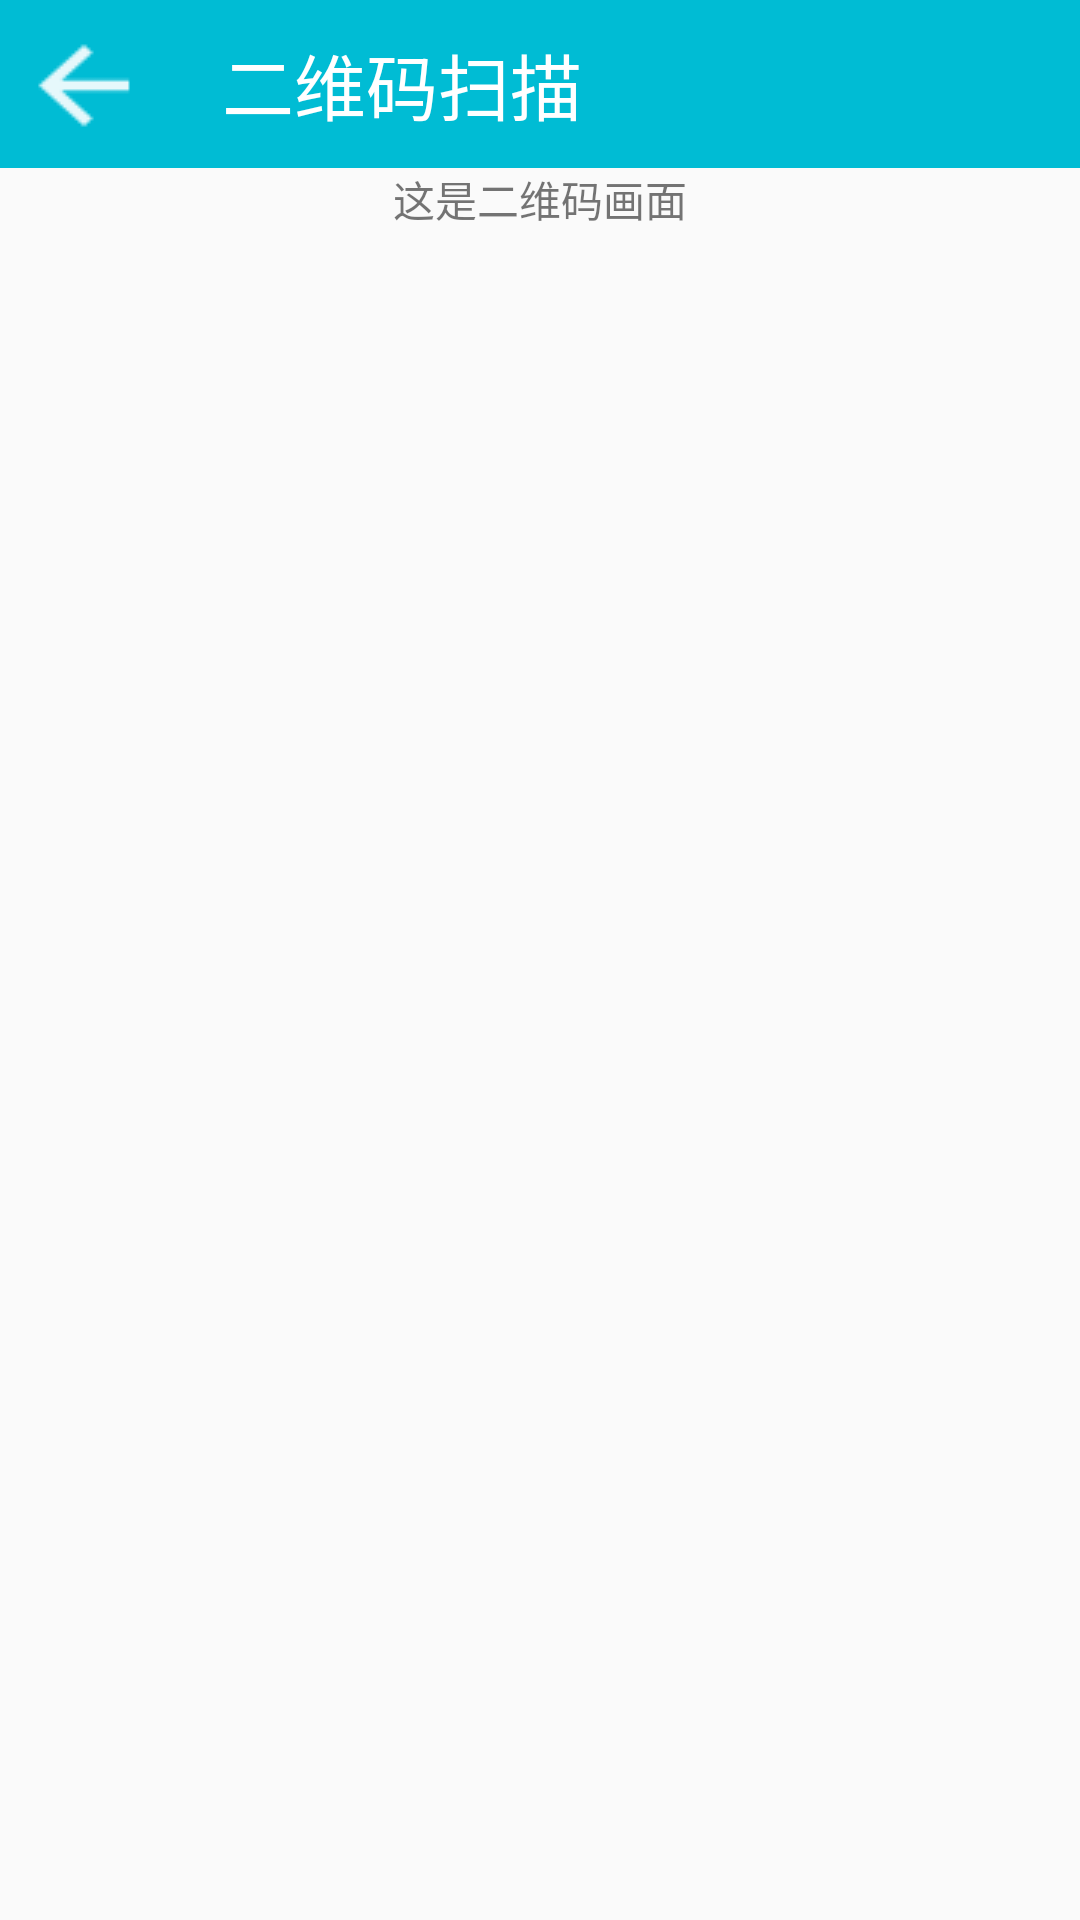

Icon bounding boxes for this 1080x1920 phone screenshot, format (x1, y1, x2, y2):
back: (38, 44, 130, 127)
